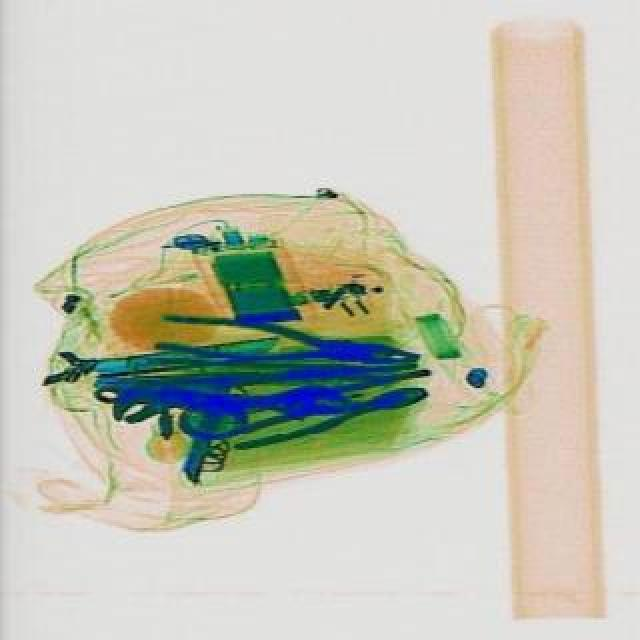wrench: (152, 312, 418, 376), (224, 374, 430, 454)
